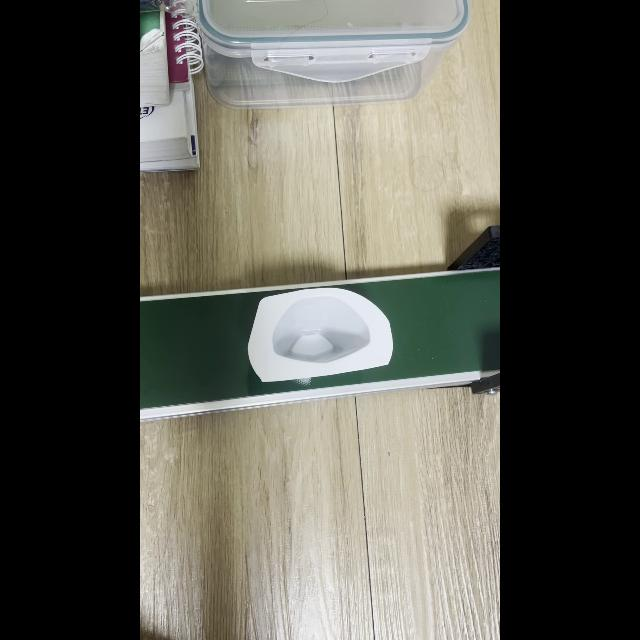clean: (251, 291, 379, 377)
